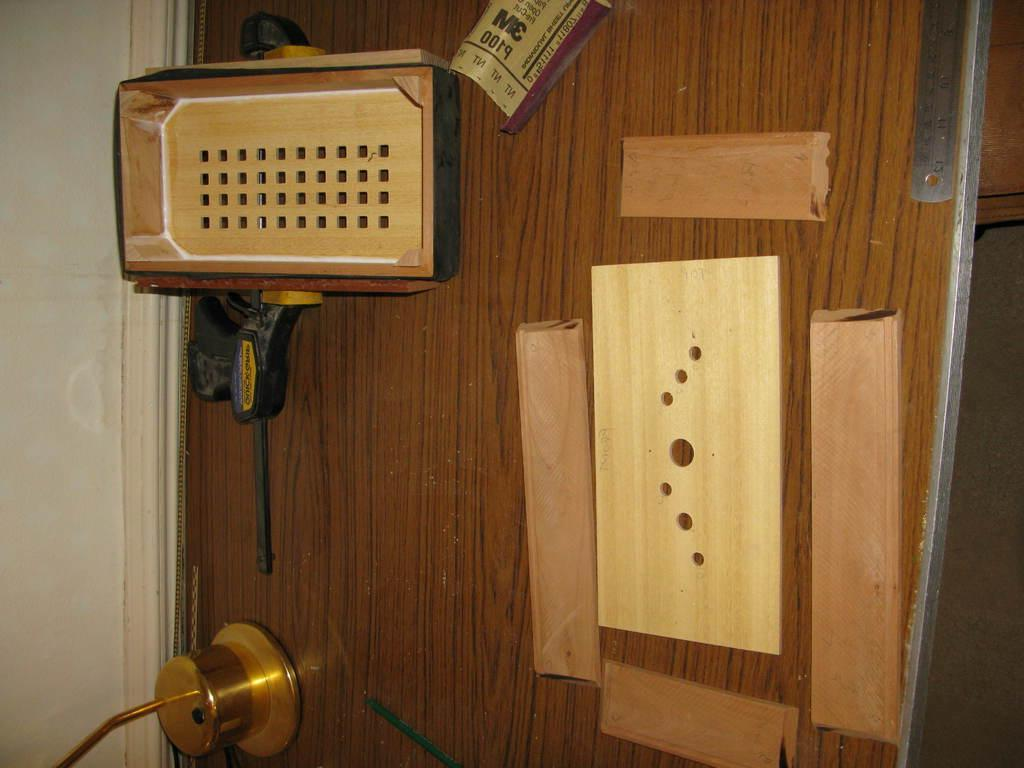door: (185, 48, 917, 768)
handle: (145, 637, 273, 768)
